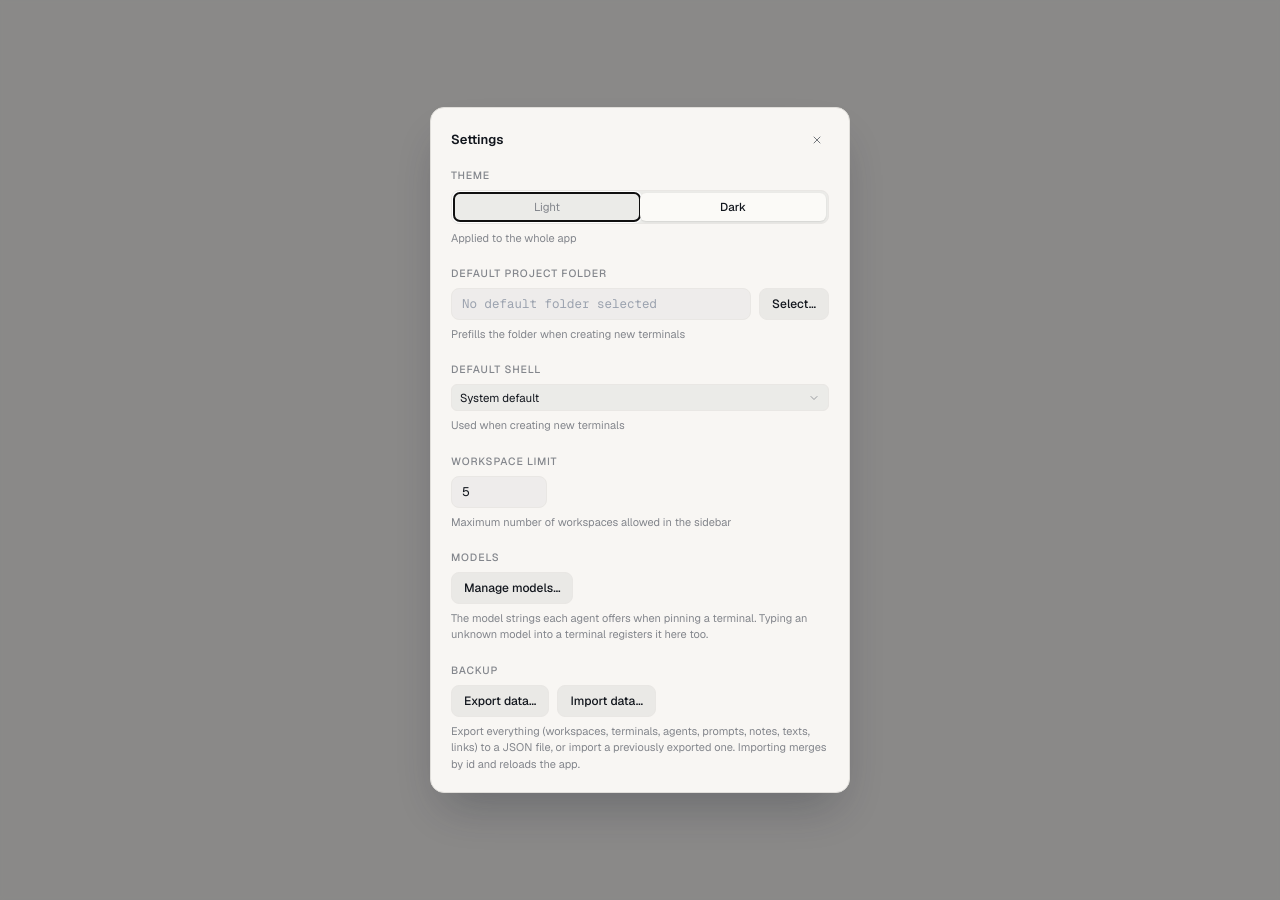
Test: SettingsModal › exports a backup and shows the written path
Click the button "Export data…". click: point(500, 701)
box: x1=451 y1=685 x2=549 y2=717
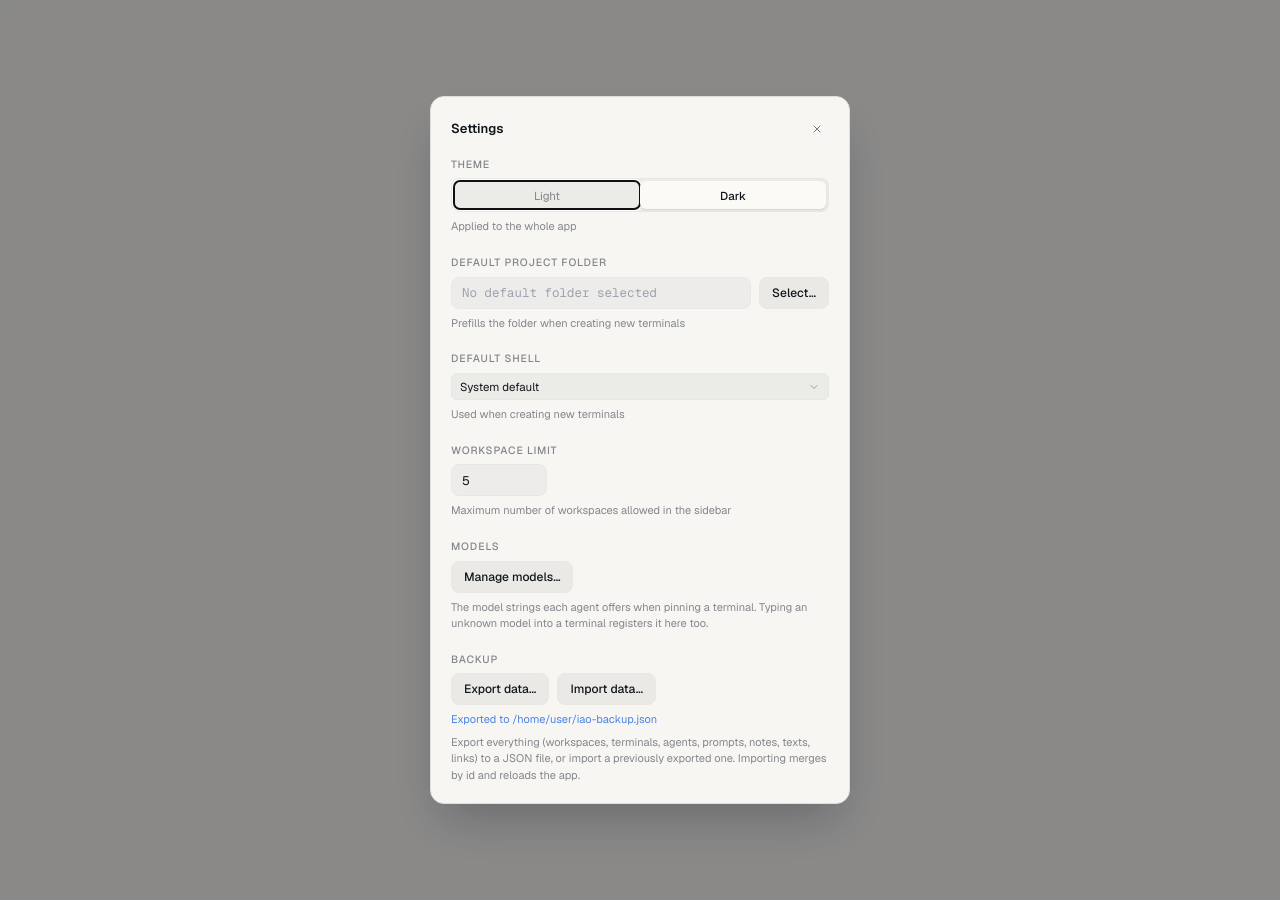
Expected: the message shows "/home/user/iao-backup.json", x1=451 y1=712 x2=657 y2=726
